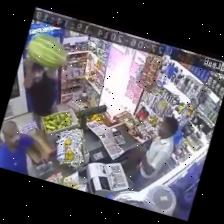person: (130, 117, 177, 191), (0, 121, 47, 174), (23, 59, 56, 130)
